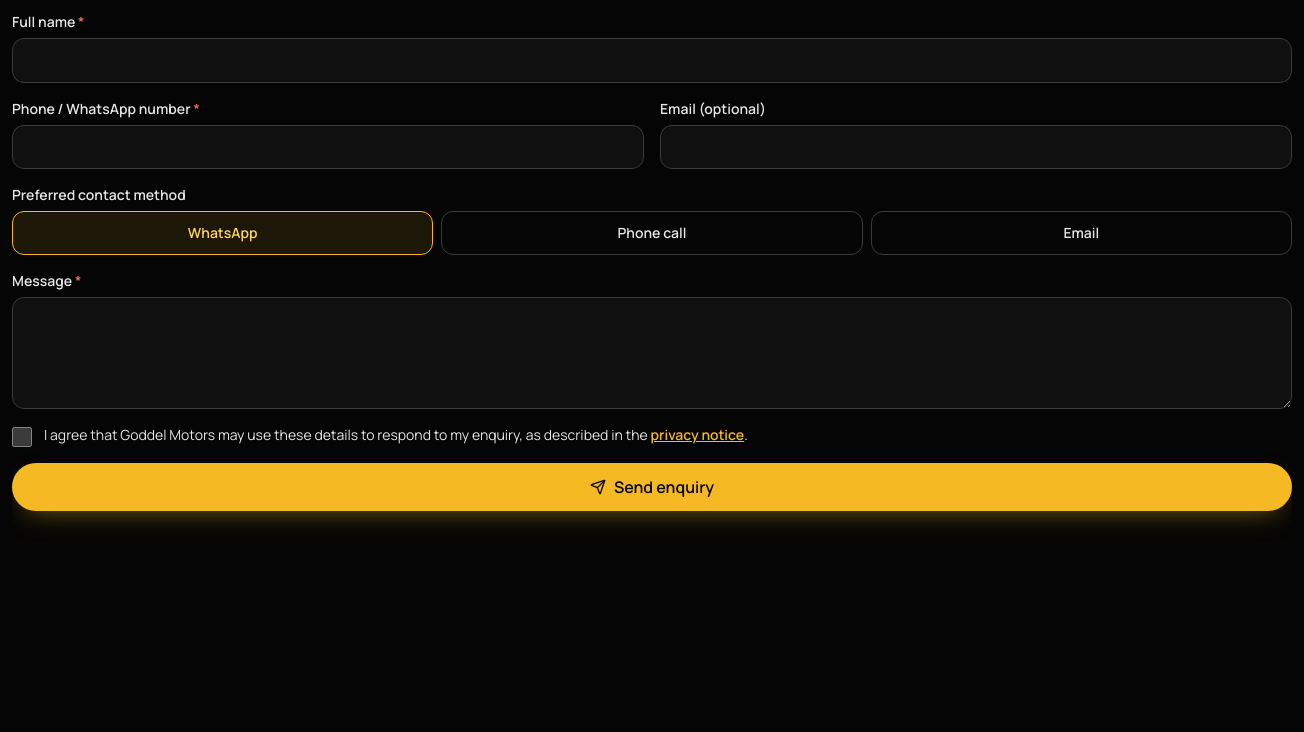
Test case: EnquiryForm › shows validation errors and does not submit invalid data
Step 1. Click the button "Send enquiry" → (652, 487), box [12,463,1292,511]
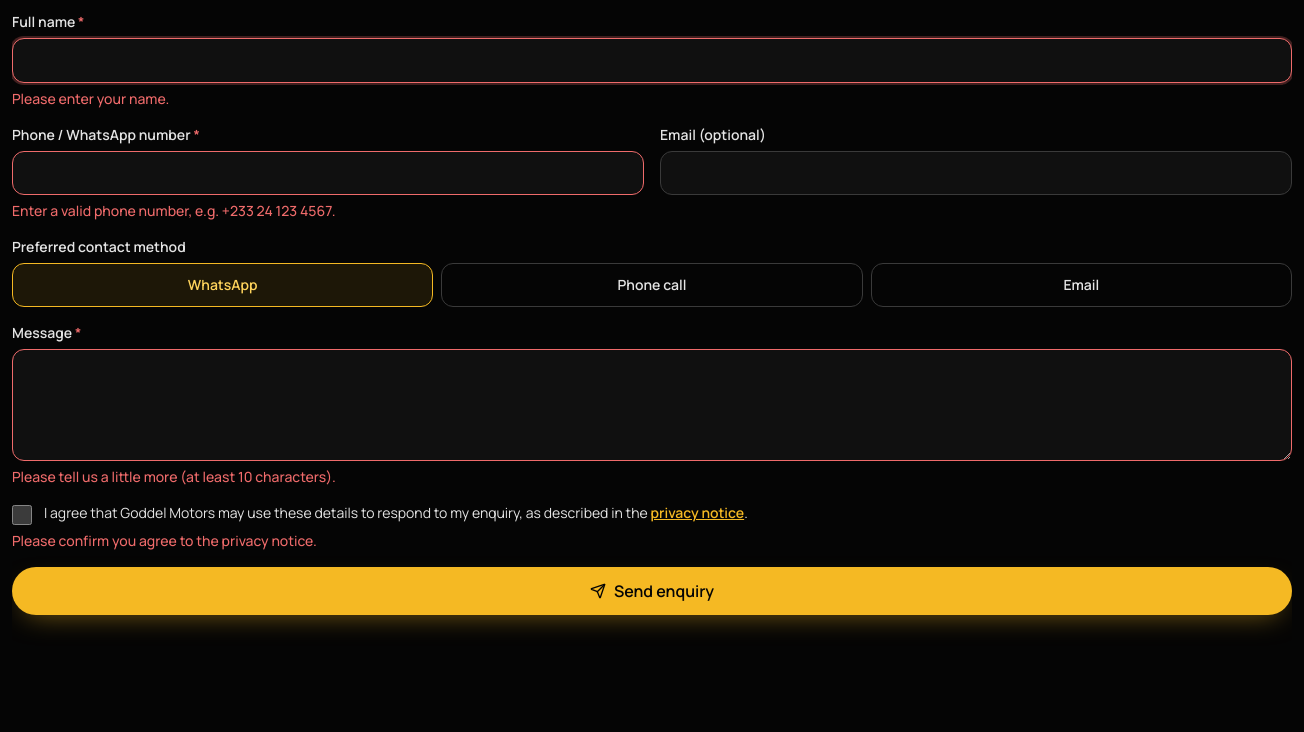
Expected: the text "Please enter your name." is shown, [12,88,169,108]
Expected: the text "Enter a valid phone number, e.g. +233 24 123 4567." is shown, [12,201,335,220]
Expected: the text "Please confirm you agree to the privacy notice." is shown, [12,531,317,550]
